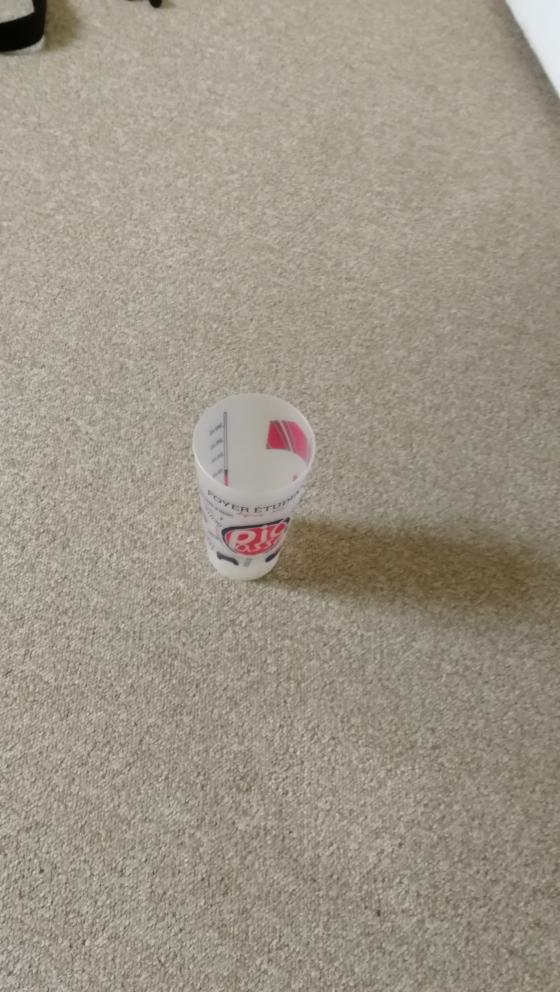ecocup: (189, 391, 317, 581)
